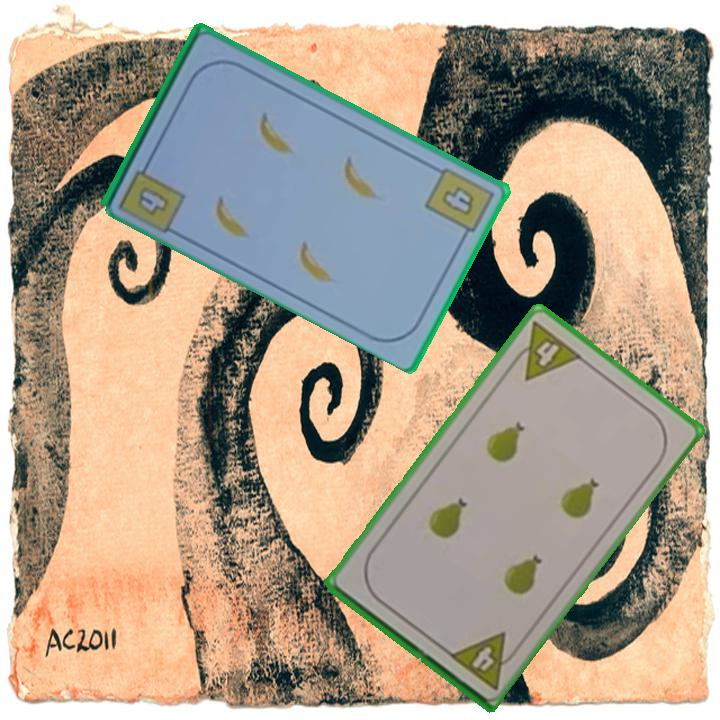4b: (421, 163, 497, 244), (134, 182, 173, 219)
4p: (505, 317, 585, 384), (445, 628, 523, 693)
